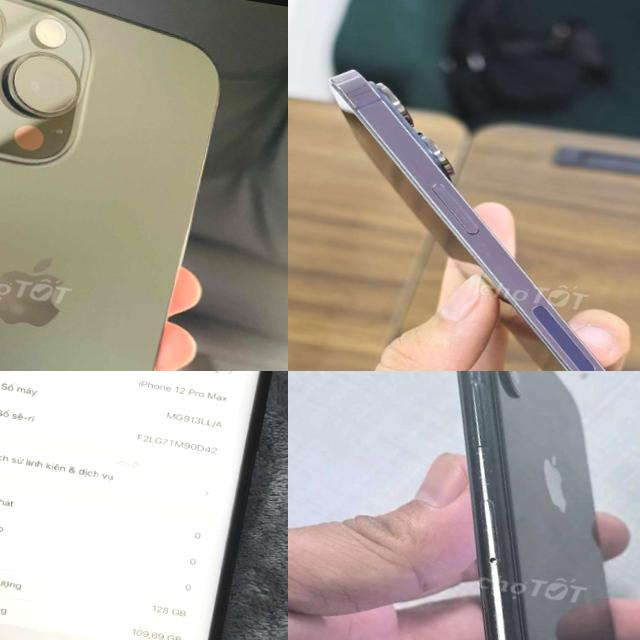gen_12_13: (0, 371, 288, 640)
gen_14: (288, 50, 640, 371)
gen_16: (0, 0, 218, 371)
gen_x_xs: (458, 371, 614, 640)
